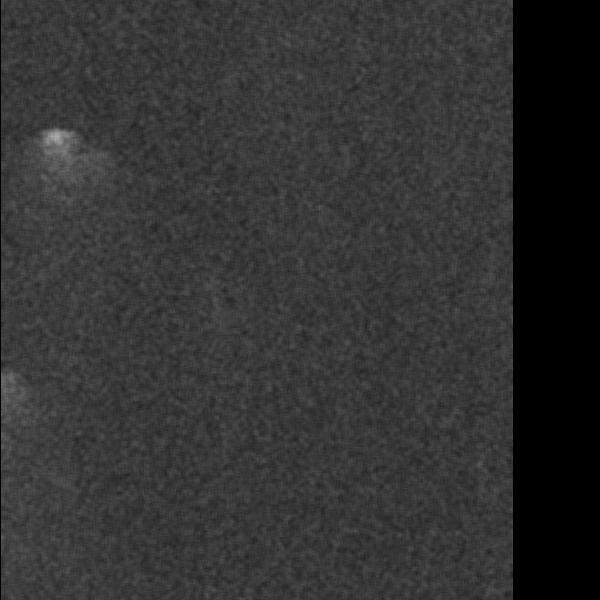spark: (32, 125, 84, 183), (1, 365, 14, 429)
